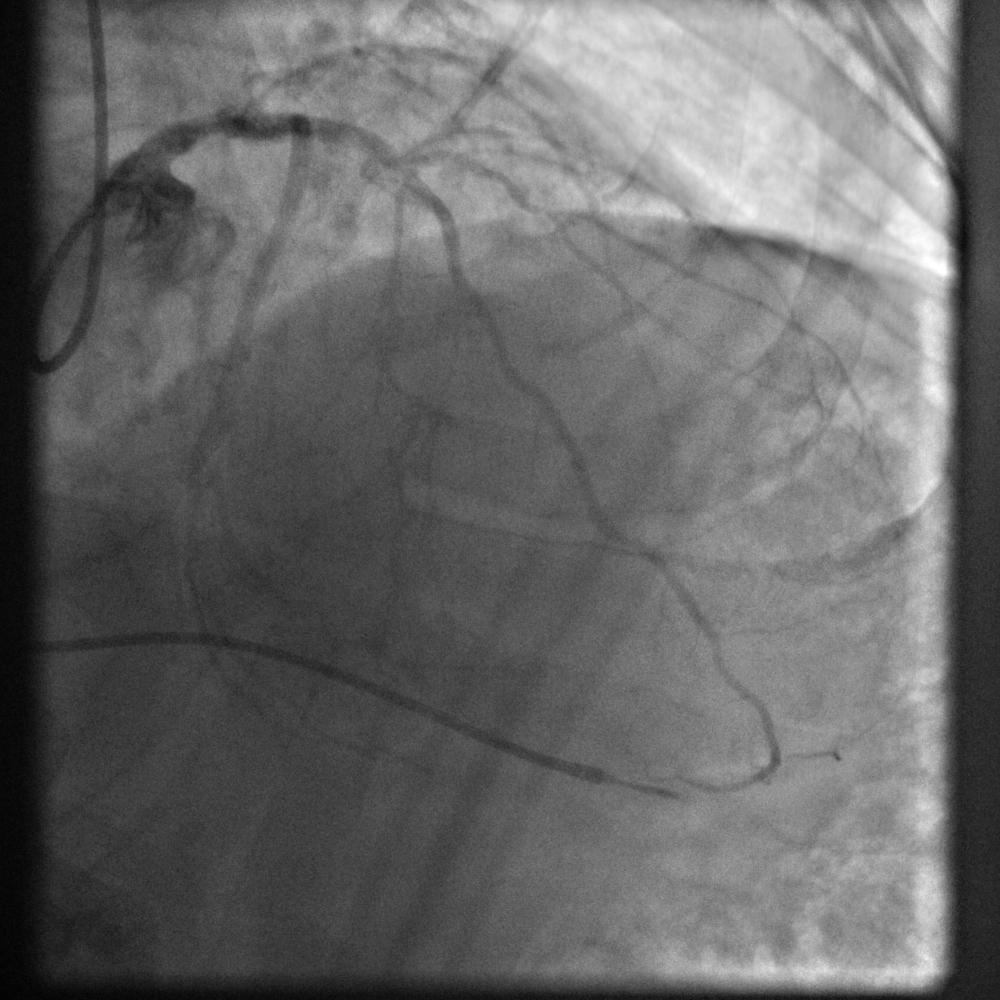Stenosis: (378, 140, 441, 193)
